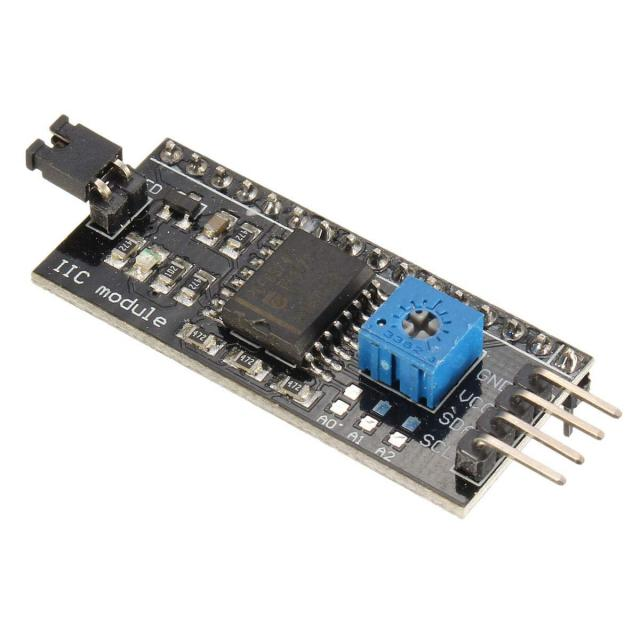4439: (163, 184, 200, 224)
IC: (220, 230, 382, 372)
LED: (133, 247, 161, 274)
capacitor 1V5: (204, 212, 231, 236)
connector -5v-: (460, 357, 626, 492), (23, 104, 148, 231)
potentiometer POT1: (360, 279, 477, 392)
resistor IR1: (275, 369, 315, 403), (224, 346, 261, 372), (182, 270, 210, 300), (110, 228, 138, 258), (224, 225, 257, 246), (186, 323, 215, 346), (160, 264, 185, 285)
